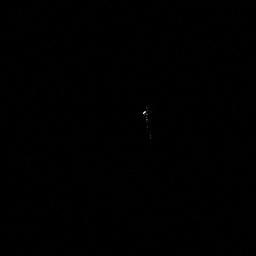ship: (142, 102, 153, 143)
